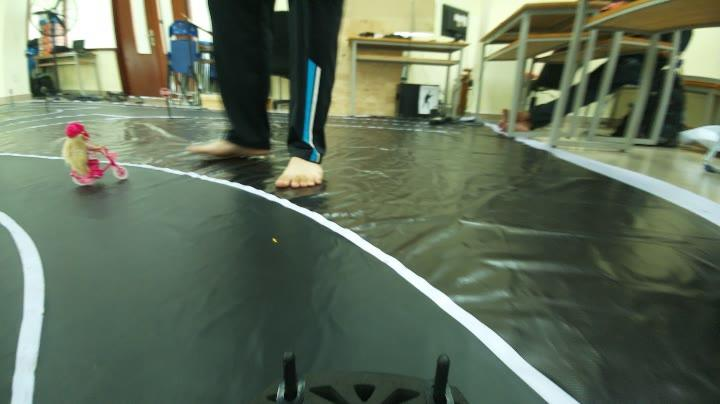pedestrian: (48, 120, 135, 186)
